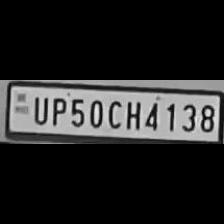0: (86, 96, 104, 128)
1: (160, 100, 178, 132)
3: (178, 100, 196, 132)
4: (142, 97, 160, 130)
5: (66, 94, 86, 128)
8: (196, 100, 216, 132)
C: (104, 97, 122, 129)
H: (122, 98, 142, 130)
P: (48, 94, 66, 125)
U: (29, 94, 49, 124)
